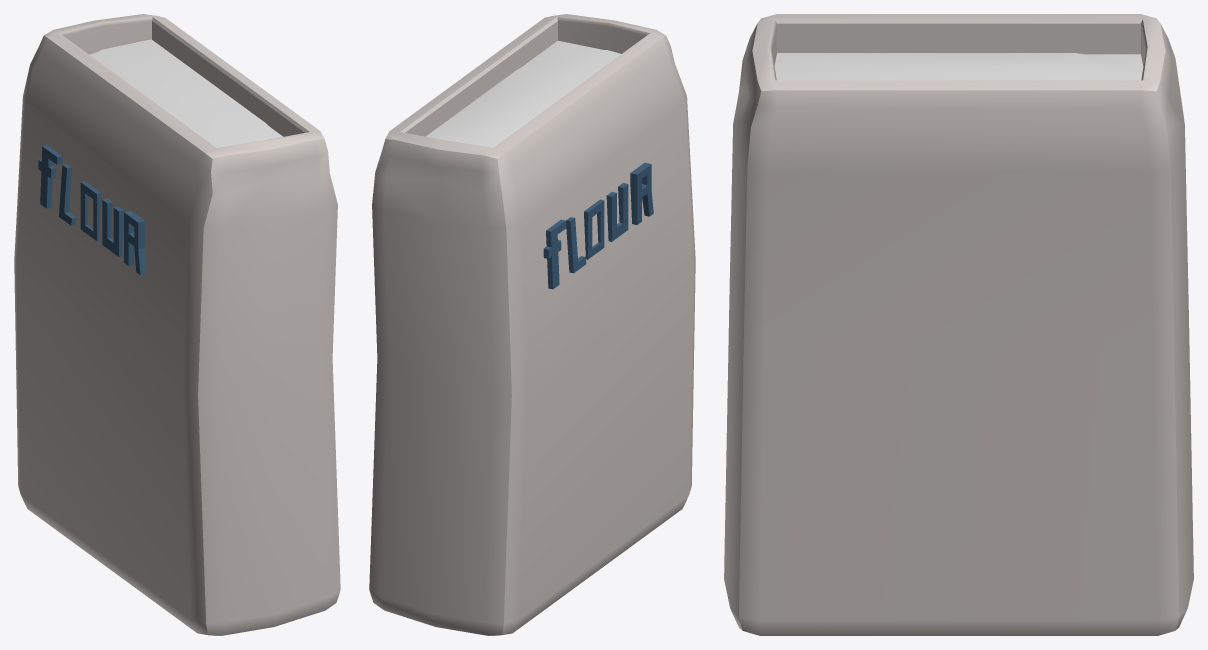
Rendered from FlourBag.fbx.
The picture shows the model from 3 angles, left to right: view 1: azimuth 30°, elevation 25°; view 2: azimuth 150°, elevation 25°; view 3: azimuth 270°, elevation 25°; orthographic projection. The views are drawn at different scales.
Parts seen in each view (by area): view 1: FlourBag, Flour, R, U, f, O, L; view 2: FlourBag, Flour, R, U, f, O, L; view 3: FlourBag, Flour.
Boxes of the visible parts, <box> form: FlourBag: <box>14,14,340,635</box>; Flour: <box>89,39,282,147</box>; R: <box>124,210,145,275</box>; U: <box>102,198,123,256</box>; f: <box>38,145,62,208</box>; O: <box>80,181,100,241</box>; L: <box>59,164,76,225</box>; FlourBag: <box>369,14,695,635</box>; Flour: <box>426,40,621,147</box>; R: <box>630,162,653,224</box>; U: <box>606,183,628,241</box>; f: <box>543,219,566,289</box>; O: <box>584,199,604,259</box>; L: <box>566,217,586,273</box>; FlourBag: <box>724,14,1193,635</box>; Flour: <box>774,53,1143,80</box>.
Bounding box in the file's own units: 0.4626 × 1.36 × 1.03.
